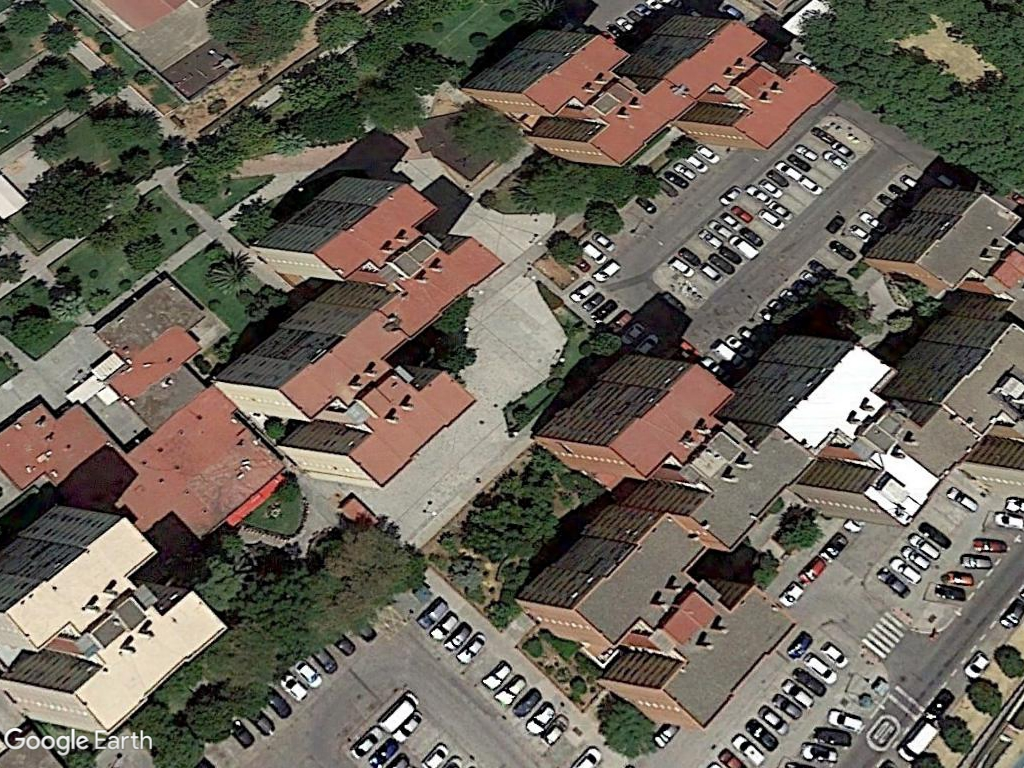car: (823, 706, 870, 731)
truck: (893, 716, 939, 765)
